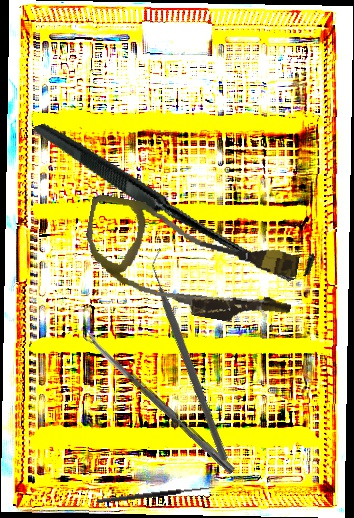Cannula: (75, 193, 305, 332)
Chopper: (80, 246, 305, 463)
Hook Surgical: (33, 54, 320, 344), (95, 478, 216, 505)
Surgical Spoon: (82, 330, 237, 475)
